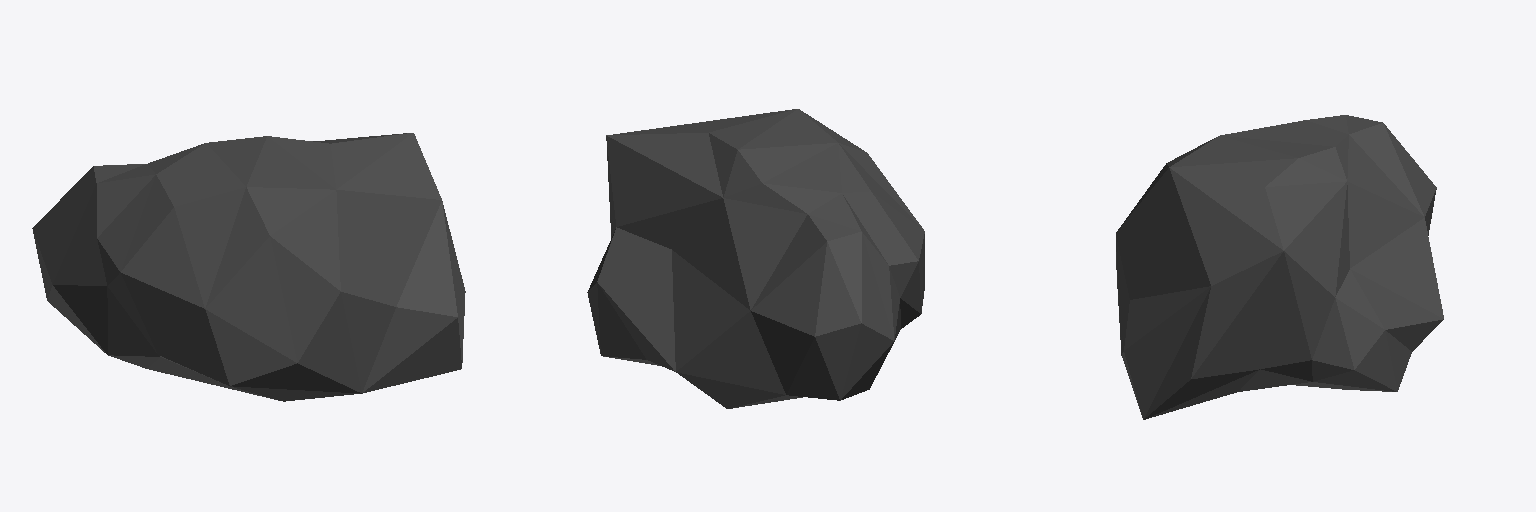
File: rock4.obj
3 views of the same model, side by side, from view 1: azimuth 30°, elevation 25°; view 2: azimuth 150°, elevation 25°; view 3: azimuth 270°, elevation 25° (orthographic).
Visible parts, largest first — view 1: low_poly_rock_4; view 2: low_poly_rock_4; view 3: low_poly_rock_4.
Part boxes in pixels (x1,y1,x2,y2): low_poly_rock_4: (32, 133, 465, 401); low_poly_rock_4: (587, 109, 924, 408); low_poly_rock_4: (1116, 115, 1443, 419).
Bounding box in the file's own units: 2.14 × 1.34 × 1.85.